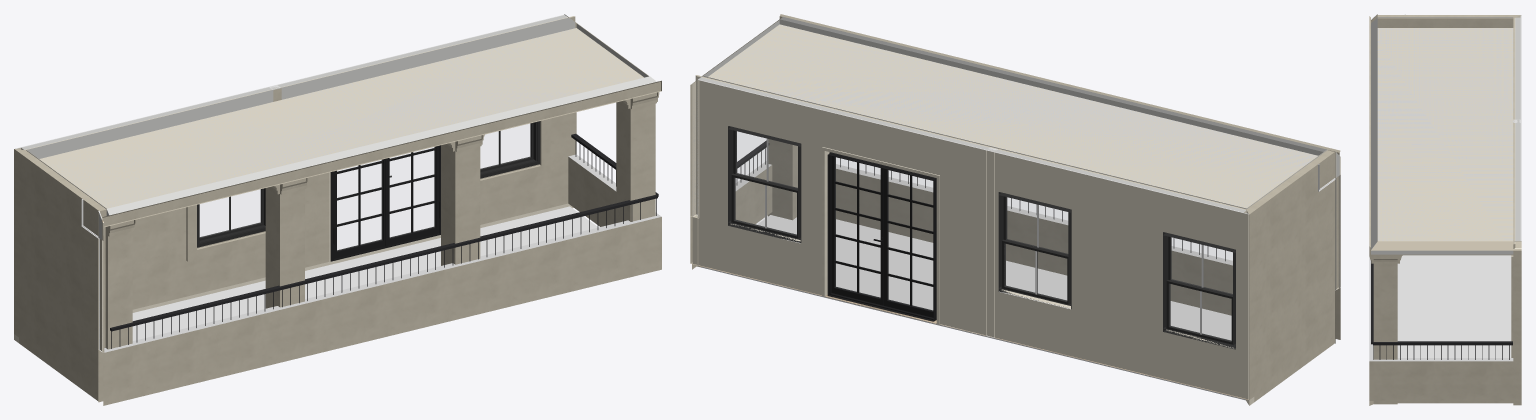
File: front-balcony-fb188d73ae3b.glb
The picture shows the model from 3 angles, left to right: view 1: azimuth 30°, elevation 25°; view 2: azimuth 150°, elevation 25°; view 3: azimuth 270°, elevation 25°; orthographic projection. The views are drawn at different scales.
Parts seen in each view (by area): view 1: front-balcony-0ac23dde8d2f7c54, front-balcony-b39baa29700ae605, front-balcony-f6a7cfeba332478b, front-balcony-62353aa10fc57f23, front-balcony-b0ade14315e4f1c3, front-balcony-dbd60ee5c3733ed6, front-balcony-24022e0f0167e9d7, front-balcony-42fce09358828e49, front-balcony-d70d42a253f78e60, front-balcony-f0f007964d256d2c, front-balcony-771be2dfa886178e, front-balcony-41597b955207c1bc (+9 smaller); view 2: front-balcony-b0ade14315e4f1c3, front-balcony-0ac23dde8d2f7c54, front-balcony-f6a7cfeba332478b, front-balcony-62353aa10fc57f23, front-balcony-b39baa29700ae605, front-balcony-dbd60ee5c3733ed6, front-balcony-e1735639a83d20d7, front-balcony-60f0db96f832035a, front-balcony-42fce09358828e49, front-balcony-b5cb73c07919def8, front-balcony-d70d42a253f78e60, front-balcony-06c58750f38c7b4f (+6 smaller); view 3: front-balcony-0ac23dde8d2f7c54, front-balcony-f6a7cfeba332478b, front-balcony-dbd60ee5c3733ed6, front-balcony-dc9de07e6ba3b47a, front-balcony-41597b955207c1bc, front-balcony-b0ade14315e4f1c3, front-balcony-62353aa10fc57f23, front-balcony-adb6f49a6d2cbec3, front-balcony-8ce6cdf114d83750, front-balcony-24022e0f0167e9d7, front-balcony-16d9002bc6318568, front-balcony-19165bb3a07bed8e (+3 smaller).
Part boxes in pixels (box(x1,y1,x2,y2)): front-balcony-0ac23dde8d2f7c54: box(26, 18, 656, 215); front-balcony-b39baa29700ae605: box(98, 216, 661, 405); front-balcony-f6a7cfeba332478b: box(45, 29, 641, 207); front-balcony-62353aa10fc57f23: box(14, 149, 106, 401); front-balcony-b0ade14315e4f1c3: box(15, 15, 575, 309); front-balcony-dbd60ee5c3733ed6: box(132, 206, 597, 340); front-balcony-24022e0f0167e9d7: box(102, 80, 661, 227); front-balcony-42fce09358828e49: box(385, 146, 440, 246); front-balcony-d70d42a253f78e60: box(333, 159, 385, 258); front-balcony-f0f007964d256d2c: box(265, 187, 304, 308); front-balcony-771be2dfa886178e: box(441, 144, 480, 265); front-balcony-41597b955207c1bc: box(616, 102, 655, 222); front-balcony-b0ade14315e4f1c3: box(692, 75, 1248, 399); front-balcony-0ac23dde8d2f7c54: box(702, 17, 1327, 209); front-balcony-f6a7cfeba332478b: box(710, 24, 1317, 207); front-balcony-62353aa10fc57f23: box(1246, 150, 1334, 405); front-balcony-b39baa29700ae605: box(836, 164, 1340, 343); front-balcony-dbd60ee5c3733ed6: box(702, 215, 1245, 400); front-balcony-e1735639a83d20d7: box(728, 126, 801, 242); front-balcony-60f0db96f832035a: box(1163, 232, 1235, 349); front-balcony-42fce09358828e49: box(831, 156, 883, 305); front-balcony-b5cb73c07919def8: box(998, 192, 1071, 308); front-balcony-d70d42a253f78e60: box(884, 168, 933, 317); front-balcony-06c58750f38c7b4f: box(827, 152, 936, 321); front-balcony-0ac23dde8d2f7c54: box(1371, 17, 1513, 254); front-balcony-f6a7cfeba332478b: box(1371, 28, 1513, 255); front-balcony-dbd60ee5c3733ed6: box(1397, 255, 1513, 403); front-balcony-dc9de07e6ba3b47a: box(1369, 358, 1513, 400); front-balcony-41597b955207c1bc: box(1373, 264, 1397, 404); front-balcony-b0ade14315e4f1c3: box(1513, 15, 1521, 400); front-balcony-62353aa10fc57f23: box(1377, 15, 1521, 27); front-balcony-adb6f49a6d2cbec3: box(1513, 249, 1521, 361); front-balcony-8ce6cdf114d83750: box(1373, 341, 1512, 345); front-balcony-24022e0f0167e9d7: box(1369, 16, 1370, 255); front-balcony-16d9002bc6318568: box(1514, 361, 1521, 400); front-balcony-19165bb3a07bed8e: box(1511, 255, 1513, 357).
Size of the model in its own units: 9.14 by 3 by 2.55.
19 materials, 4 textured.
